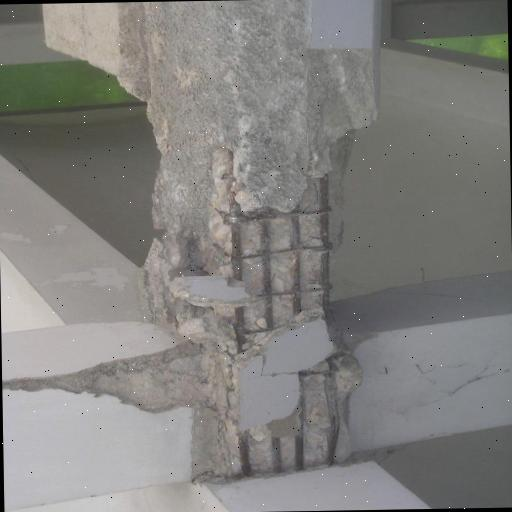spalling: (194, 44, 357, 481), (12, 343, 194, 414)
